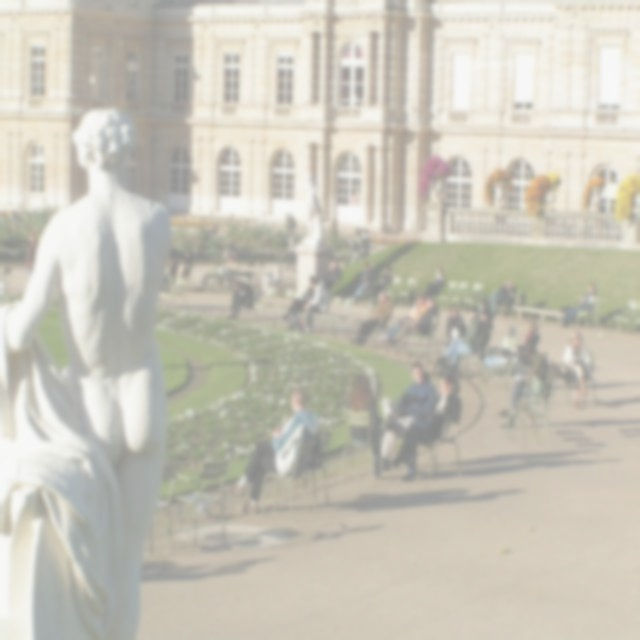pessoa: (0, 104, 177, 639), (220, 383, 322, 517), (388, 370, 464, 482), (372, 358, 438, 472), (496, 341, 554, 432), (346, 372, 386, 481), (384, 293, 440, 350), (346, 286, 394, 349), (375, 291, 430, 343), (442, 304, 482, 373), (560, 327, 593, 410), (456, 304, 494, 372), (503, 315, 541, 377), (280, 275, 316, 332), (560, 281, 598, 329), (301, 275, 331, 334), (446, 304, 466, 380), (223, 277, 256, 321), (300, 171, 322, 237), (484, 278, 517, 319), (350, 259, 376, 307), (321, 255, 344, 297), (371, 264, 394, 303), (24, 229, 40, 283), (214, 254, 240, 285), (424, 266, 446, 299), (285, 227, 297, 272), (167, 255, 179, 294), (350, 228, 362, 266), (180, 247, 194, 279), (287, 211, 297, 239), (361, 228, 370, 258), (477, 295, 489, 317), (228, 245, 240, 263), (328, 216, 338, 236), (226, 234, 236, 251), (284, 212, 291, 231), (210, 222, 218, 233), (344, 233, 352, 243)
